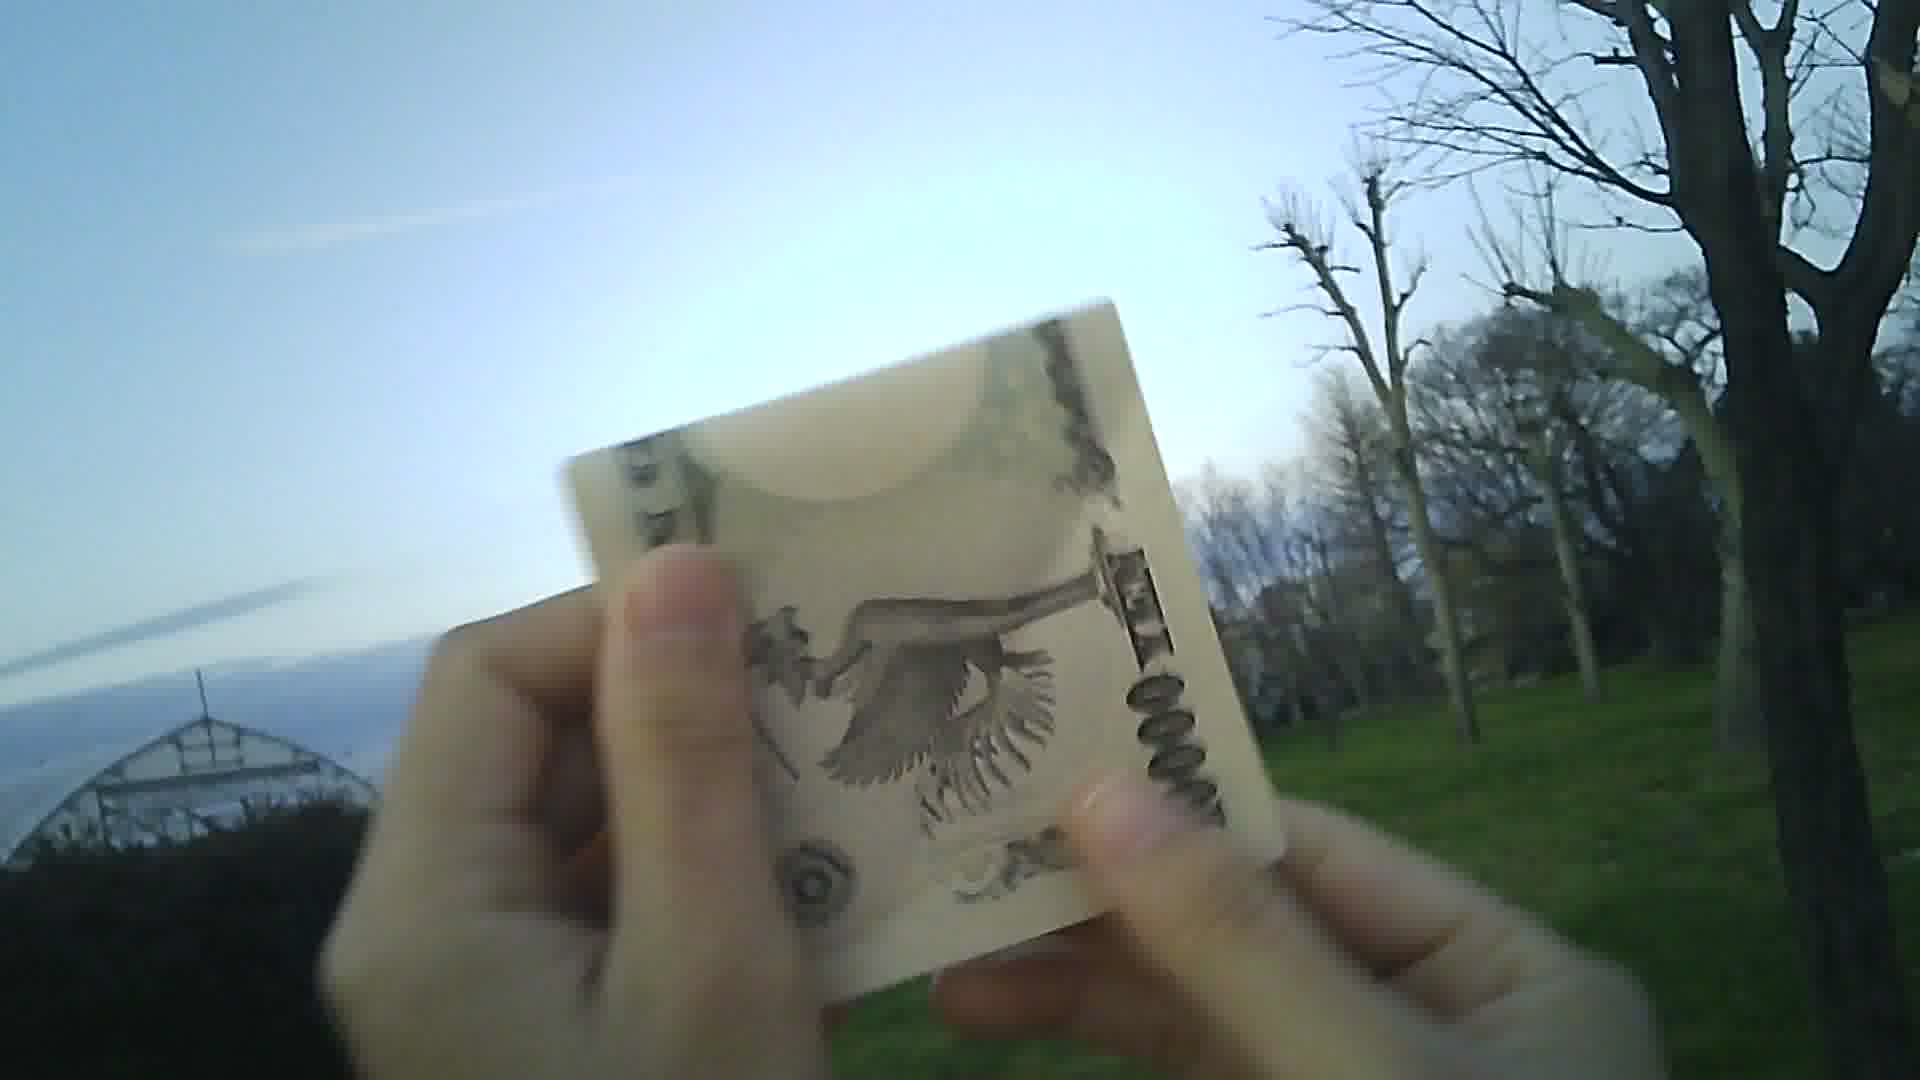10,000 Yen: (556, 268, 1303, 968)
